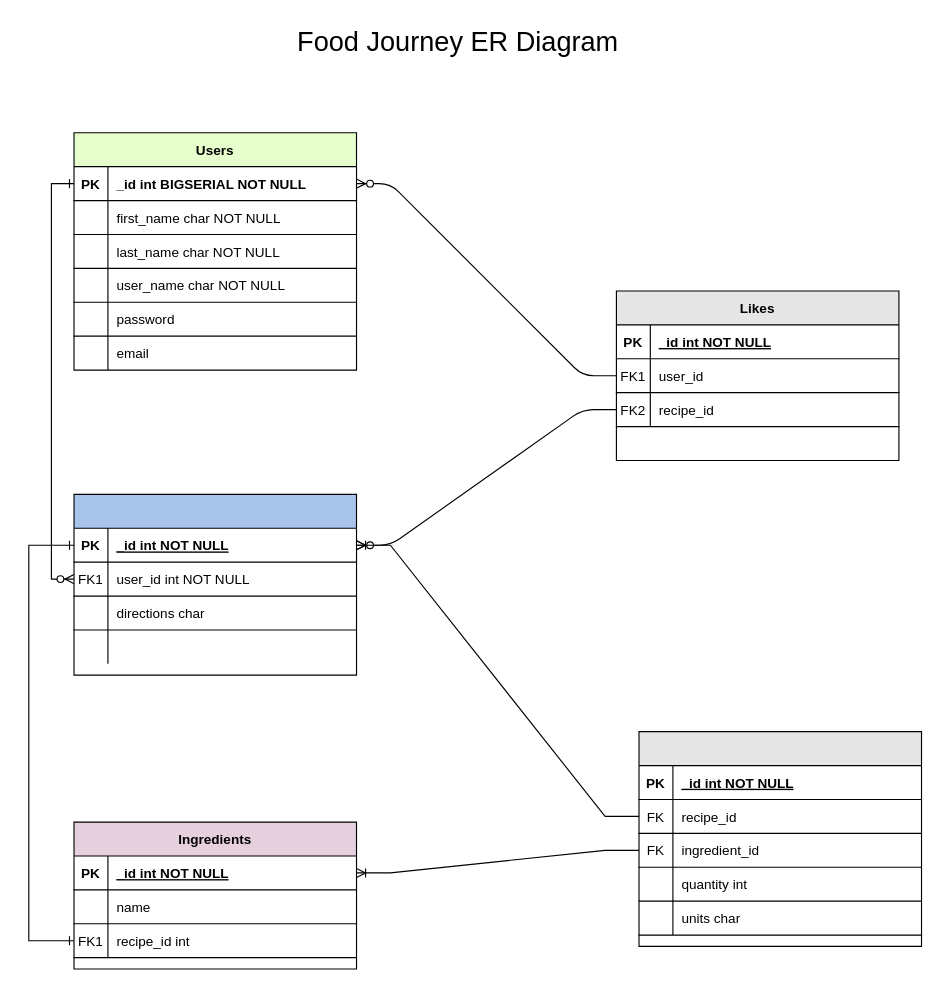
Some shapes in this 941 by 989 pixel diagram are drawn without their labels. The box of each missing label's shape, as (x1, y1, x2, y2) in pixels:
Makings: (638, 731, 922, 946)
Recipes: (73, 493, 357, 675)
